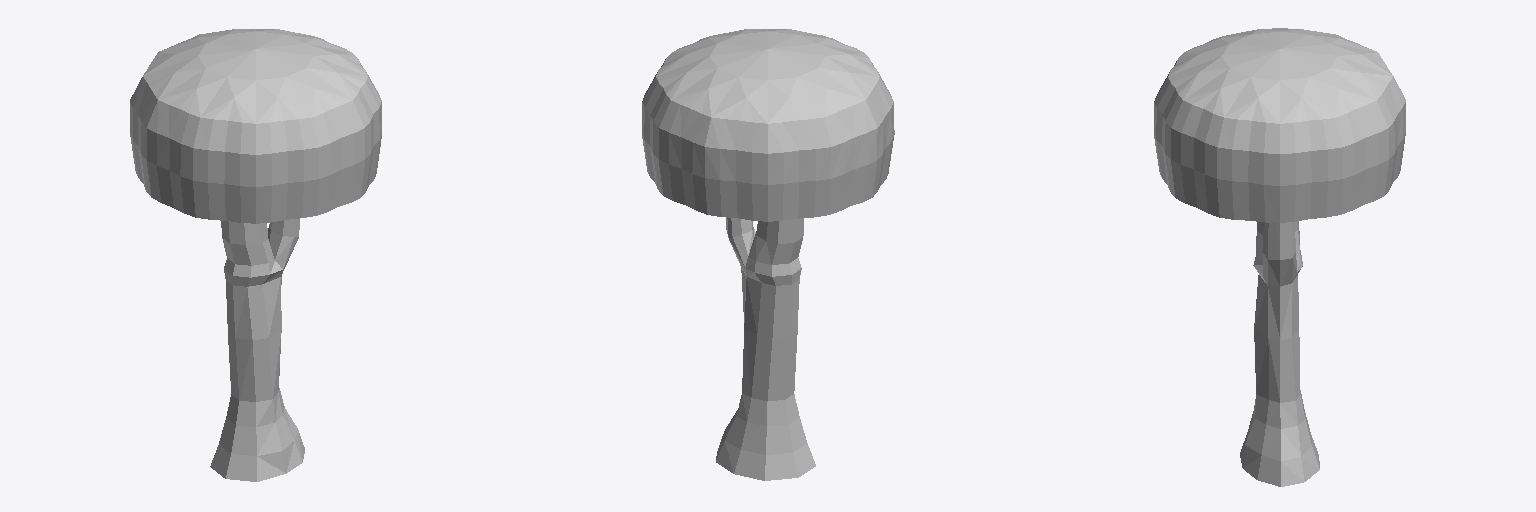
The model's file is O_JungleWorldTree_d.obj.
The picture shows the model from 3 angles: view 1: azimuth 30°, elevation 25°; view 2: azimuth 150°, elevation 25°; view 3: azimuth 270°, elevation 25°; orthographic projection.
Visible parts, largest first — view 1: O_JungleWorldTree_d; view 2: O_JungleWorldTree_d; view 3: O_JungleWorldTree_d.
Boxes of the visible parts, x1=… form: O_JungleWorldTree_d: x1=130, y1=29, x2=381, y2=481; O_JungleWorldTree_d: x1=642, y1=29, x2=894, y2=480; O_JungleWorldTree_d: x1=1154, y1=28, x2=1405, y2=486.
Bounding box in the file's own units: 59.1 × 107 × 59.07.